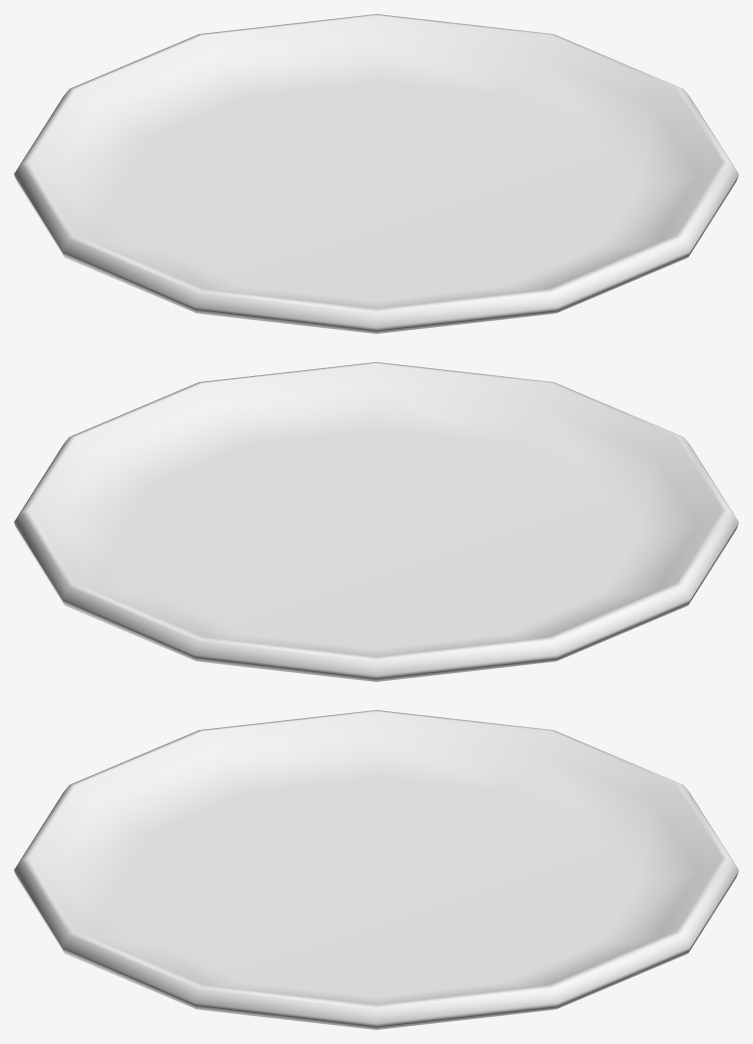
File: prop_066.fbx
The picture shows the model from 3 angles, top to bottom: view 1: azimuth 30°, elevation 25°; view 2: azimuth 150°, elevation 25°; view 3: azimuth 270°, elevation 25°; orthographic projection.
Parts seen in each view (by area): view 1: prop_066; view 2: prop_066; view 3: prop_066.
Boxes of the visible parts, x1,y1,x2,y2 form: prop_066: (14, 14, 738, 333); prop_066: (14, 362, 738, 681); prop_066: (14, 710, 738, 1029).
Size of the model in its own units: 31.85 by 31.85 by 3.13.
